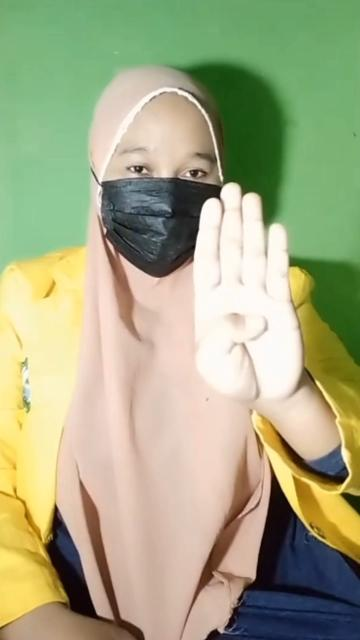B: (192, 182, 308, 408)
